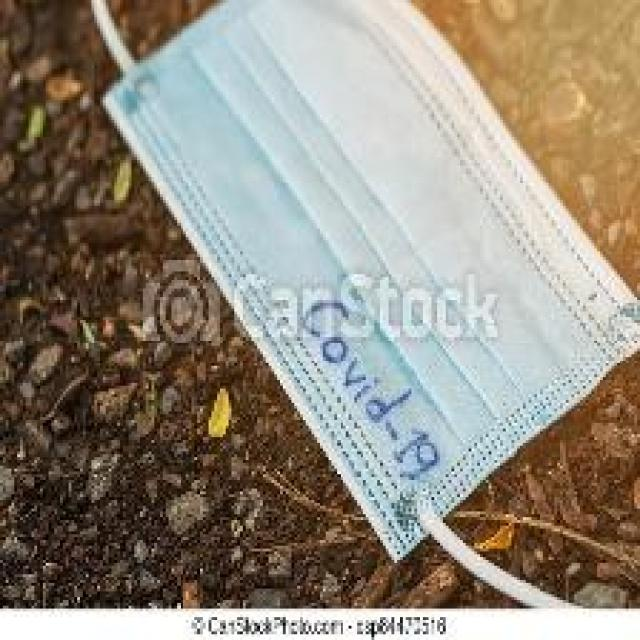Mask: (95, 0, 640, 575)
